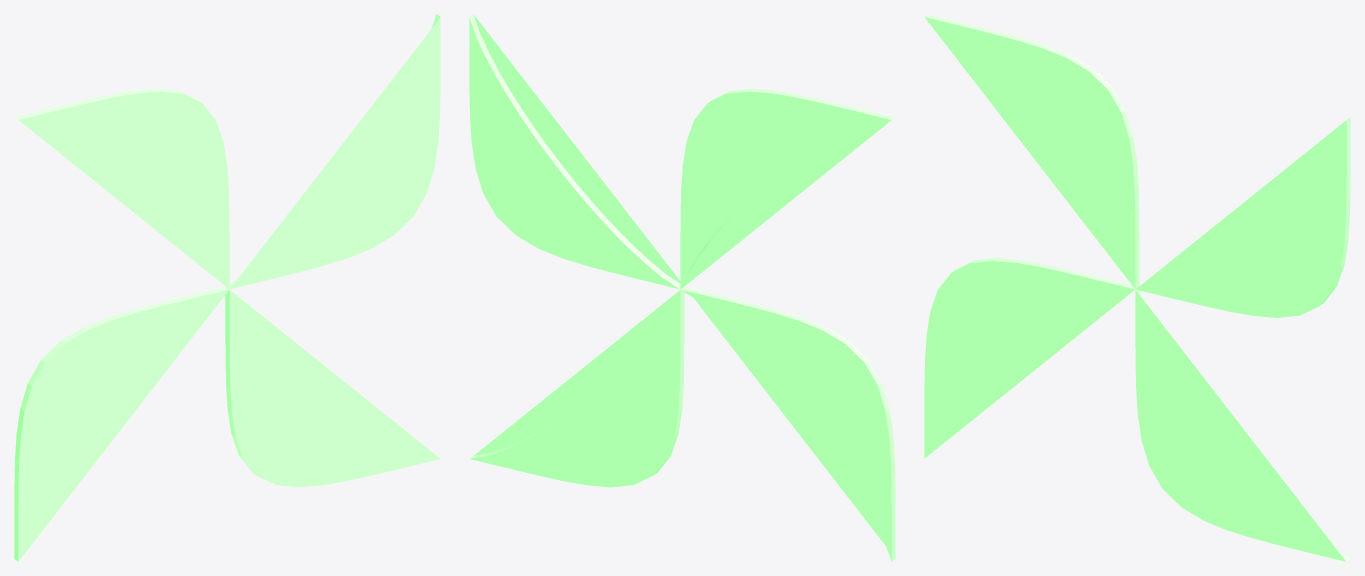
File: puropera.fbx
3 views of the same model, side by side, from view 1: azimuth 30°, elevation 25°; view 2: azimuth 150°, elevation 25°; view 3: azimuth 330°, elevation 25° (orthographic).
Parts seen in each view (by area): view 1: 立方体.004, 立方体.005, 立方体.007, 立方体.006; view 2: 立方体.006, 立方体.007, 立方体.005, 立方体.004; view 3: 立方体.007, 立方体.006, 立方体.004, 立方体.005.
Boxes of the visible parts, x1,y1,x2,y2 form: 立方体.004: (14, 286, 229, 561); 立方体.005: (225, 289, 440, 487); 立方体.007: (14, 88, 229, 289); 立方体.006: (229, 14, 440, 289); 立方体.006: (469, 14, 680, 289); 立方体.007: (680, 88, 895, 289); 立方体.005: (469, 289, 684, 487); 立方体.004: (680, 286, 895, 561); 立方体.007: (924, 14, 1139, 289); 立方体.006: (1135, 117, 1350, 317); 立方体.004: (924, 258, 1134, 458); 立方体.005: (1135, 289, 1350, 561).
Bounding box in the file's own units: 400 × 400 × 6.81.
